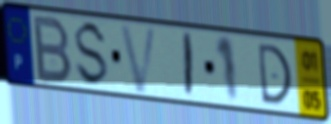1: (213, 34, 241, 105)
B: (32, 13, 75, 85)
D: (256, 41, 294, 106)
I: (183, 30, 195, 100)
S: (73, 19, 111, 90)
V: (117, 22, 161, 95)
